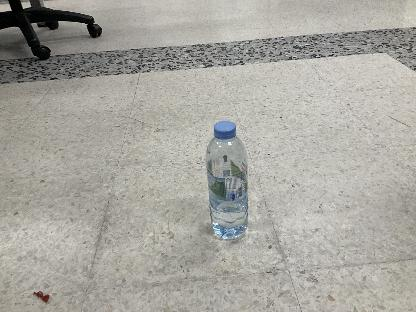Plastic Bottle: (205, 122, 249, 242)
